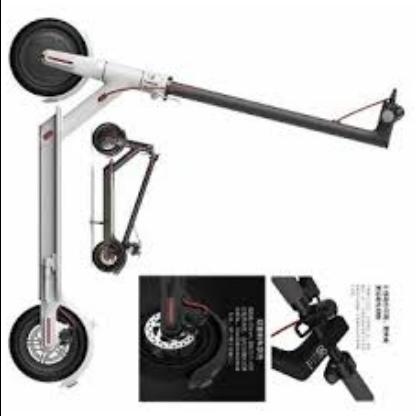bike: (139, 278, 265, 394)
